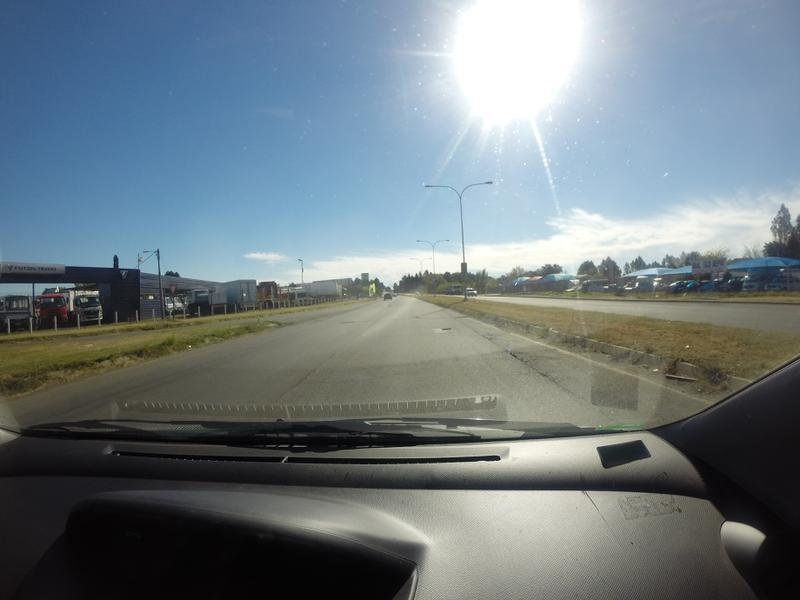pothole: (441, 323, 457, 330)
